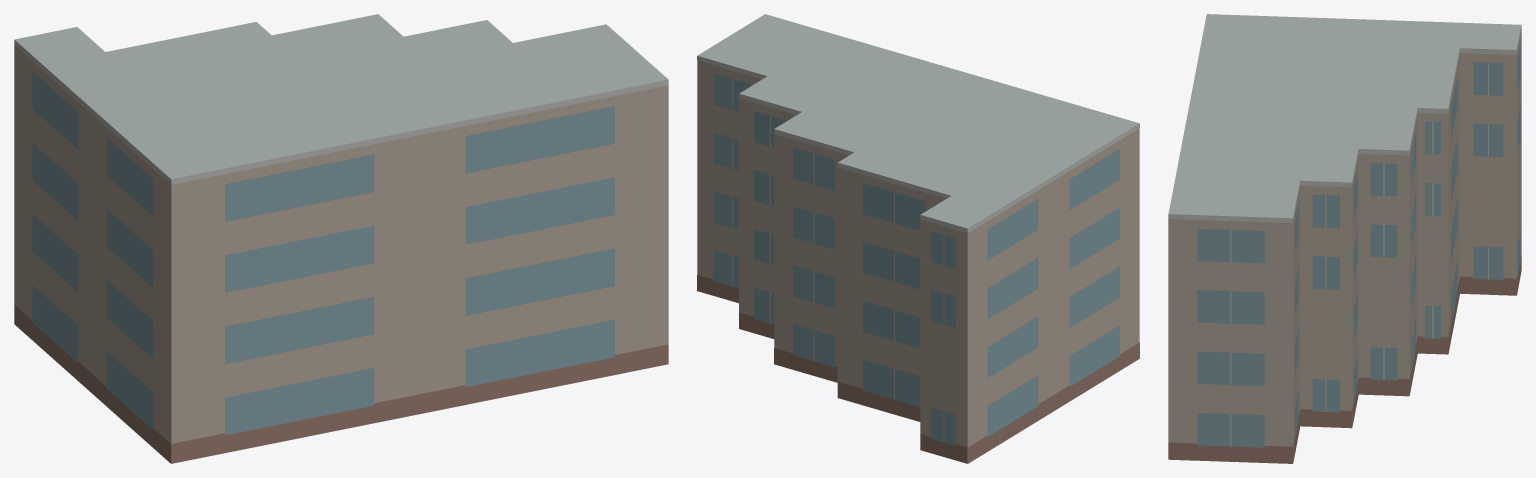
File: residential-1e81307c-fb63-4024-8d4f-c071174fb798.glb
3 views of the same model, side by side, from view 1: azimuth 30°, elevation 25°; view 2: azimuth 150°, elevation 25°; view 3: azimuth 270°, elevation 25° (orthographic). The views are drawn at different scales.
Parts seen in each view (by area): view 1: residential-1e81307c-fb63-4024-8d4f-c071174fb798.tmp; view 2: residential-1e81307c-fb63-4024-8d4f-c071174fb798.tmp; view 3: residential-1e81307c-fb63-4024-8d4f-c071174fb798.tmp.
Part boxes in pixels (x1,y1,x2,y2): residential-1e81307c-fb63-4024-8d4f-c071174fb798.tmp: (14, 14, 668, 463); residential-1e81307c-fb63-4024-8d4f-c071174fb798.tmp: (697, 14, 1139, 463); residential-1e81307c-fb63-4024-8d4f-c071174fb798.tmp: (1168, 14, 1521, 463).
Size of the model in its own units: 21.78 by 12.2 by 15.91.
